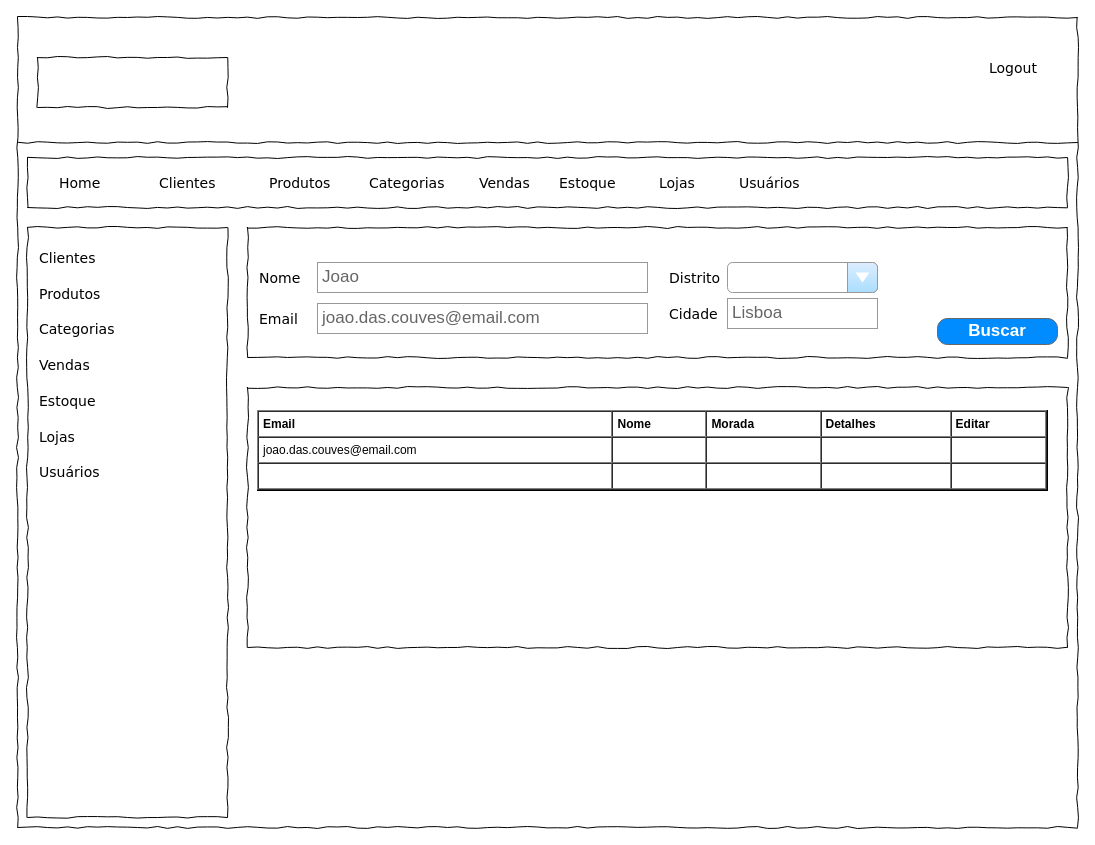
Image size: 1095x845. Some labels were removed from this diagram. Here are the shapes that lost their labels. From the top down, the centre of each, then its label:
the point at 132,82: LOGO
the point at 802,277: Option 1
